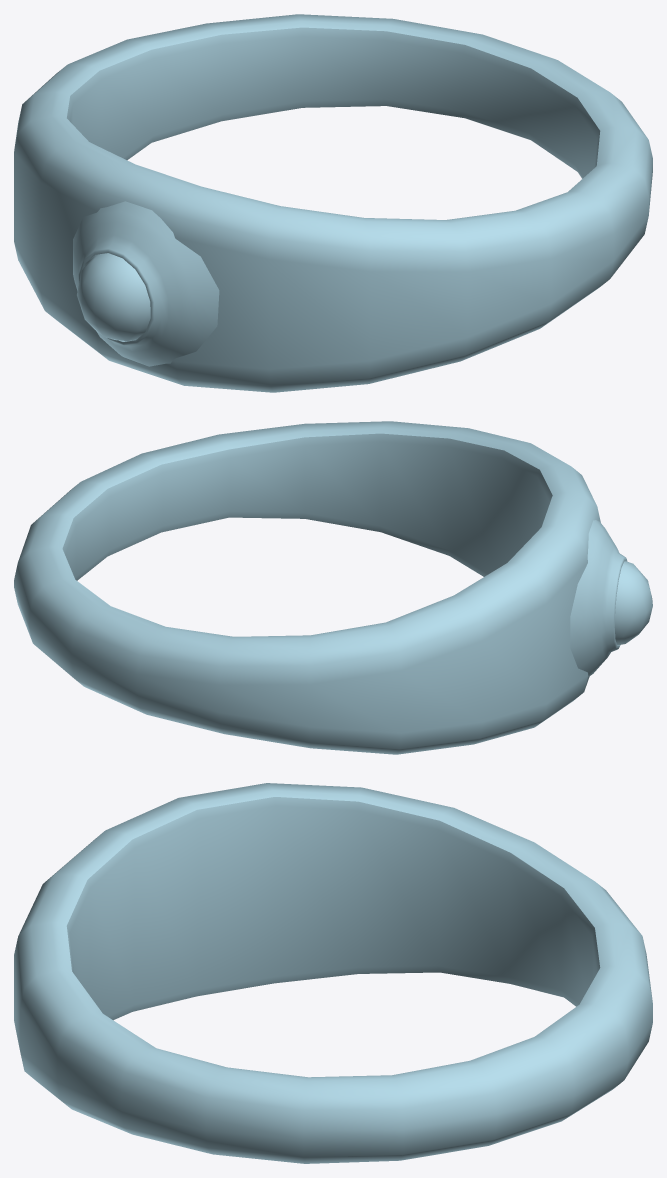
File: NiceRing.fbx
3 renders of one model, top to bottom at view 1: azimuth 30°, elevation 25°; view 2: azimuth 150°, elevation 25°; view 3: azimuth 270°, elevation 25°, orthographic. The views are drawn at different scales.
Parts seen in each view (by area): view 1: RingTop, RingBottom; view 2: RingTop, RingBottom; view 3: RingTop, RingBottom.
Boxes of the visible parts, x1,y1,x2,y2 form: RingTop: (14, 39, 613, 392); RingBottom: (127, 14, 652, 278); RingTop: (220, 421, 652, 754); RingBottom: (14, 424, 304, 733); RingTop: (14, 783, 641, 1100); RingBottom: (57, 924, 652, 1163).
Size of the model in its own units: 2.79 by 0.8698 by 2.63.
